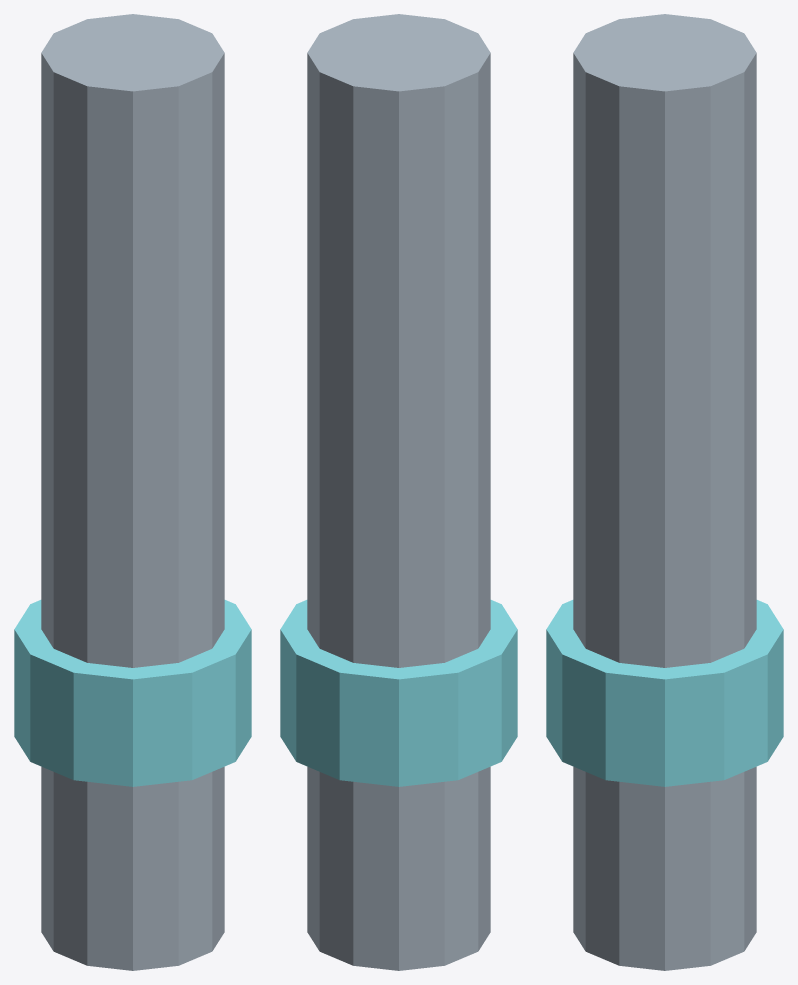
The model's file is pipe.glb.
3 views of the same model, side by side, from view 1: azimuth 30°, elevation 25°; view 2: azimuth 150°, elevation 25°; view 3: azimuth 270°, elevation 25° (orthographic).
Visible parts, largest first — view 1: vertical, band; view 2: vertical, band; view 3: vertical, band.
Boxes of the visible parts, x1,y1,x2,y2 form: vertical: (41, 14, 224, 970); band: (14, 600, 251, 786); vertical: (307, 14, 490, 970); band: (280, 600, 517, 786); vertical: (573, 14, 756, 970); band: (546, 600, 783, 786).
Bounding box in the file's own units: 0.44 × 1.8 × 0.44.
